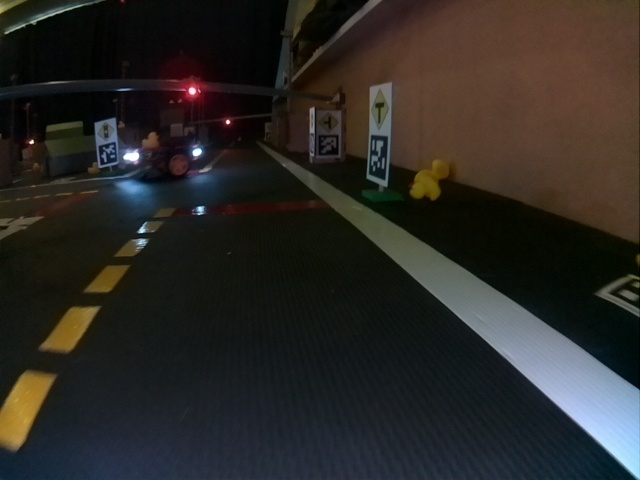Duckie: (409, 176, 438, 200), (432, 161, 449, 179), (142, 132, 158, 147), (88, 163, 98, 173)
Duckiebot: (124, 142, 203, 176)
Intersection sign: (370, 87, 390, 130), (317, 111, 339, 132)
QR code: (596, 275, 639, 313), (368, 134, 389, 181), (317, 134, 340, 156), (97, 143, 118, 166), (309, 132, 316, 154)
Signal sign: (96, 121, 115, 140)
Traffic light: (185, 85, 200, 99), (224, 118, 232, 125)
